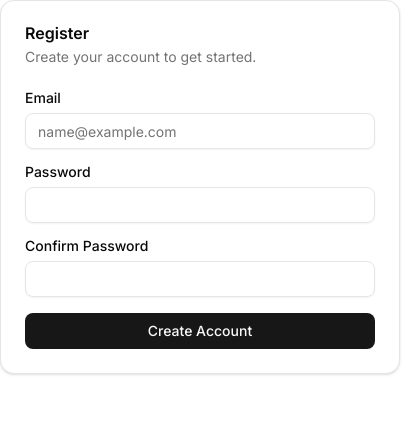
RegistrationForm renders and validates email
Note: Use user.type to simulate real user typing
In the field labelled "Email": [200, 131] box [25, 113, 375, 149], type "invalid-email"
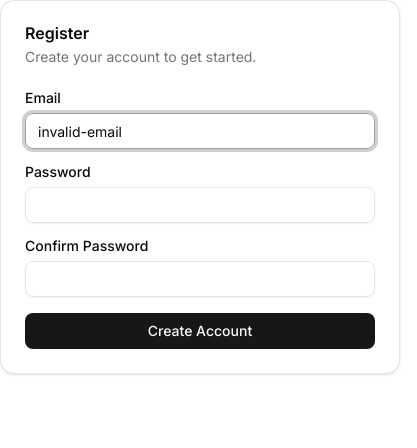
Note: Use user.click to simulate a full click event
Click the button "Create Account": [200, 331] box [25, 313, 375, 349]
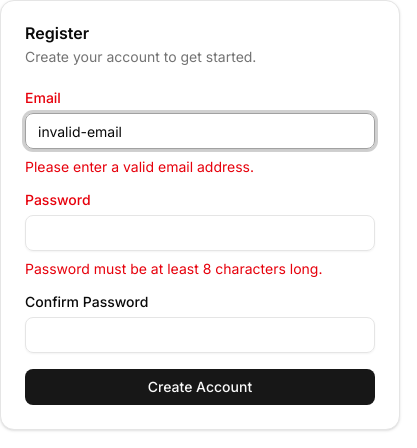
Expected: the text "Please enter a valid email address." is shown, [25, 158, 254, 175]
